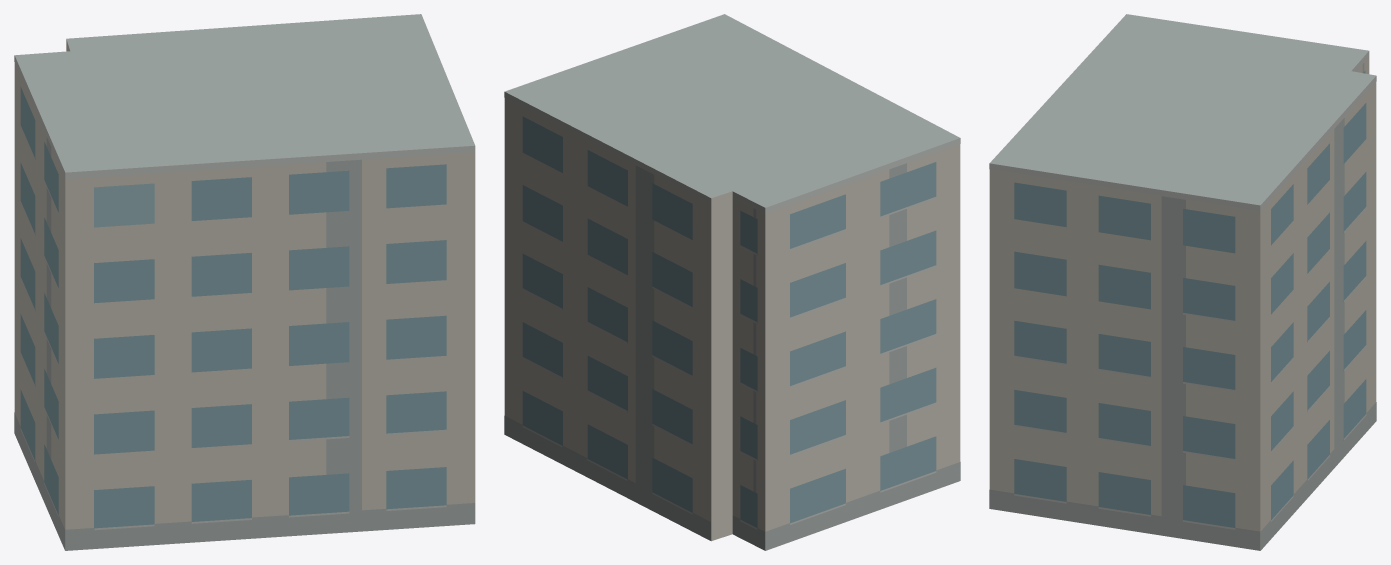
Rendered from survey-upis-33004007.glb.
The picture shows the model from 3 angles, left to right: view 1: azimuth 30°, elevation 25°; view 2: azimuth 150°, elevation 25°; view 3: azimuth 270°, elevation 25°; orthographic projection. The views are drawn at different scales.
Visible parts, largest first — view 1: survey-upis-33004007.tmp; view 2: survey-upis-33004007.tmp; view 3: survey-upis-33004007.tmp.
Boxes of the visible parts, x1,y1,x2,y2 form: survey-upis-33004007.tmp: (14,14,475,550); survey-upis-33004007.tmp: (504,14,960,550); survey-upis-33004007.tmp: (989,14,1376,550).
Bounding box in the file's own units: 16.64 × 14 × 14.22.
